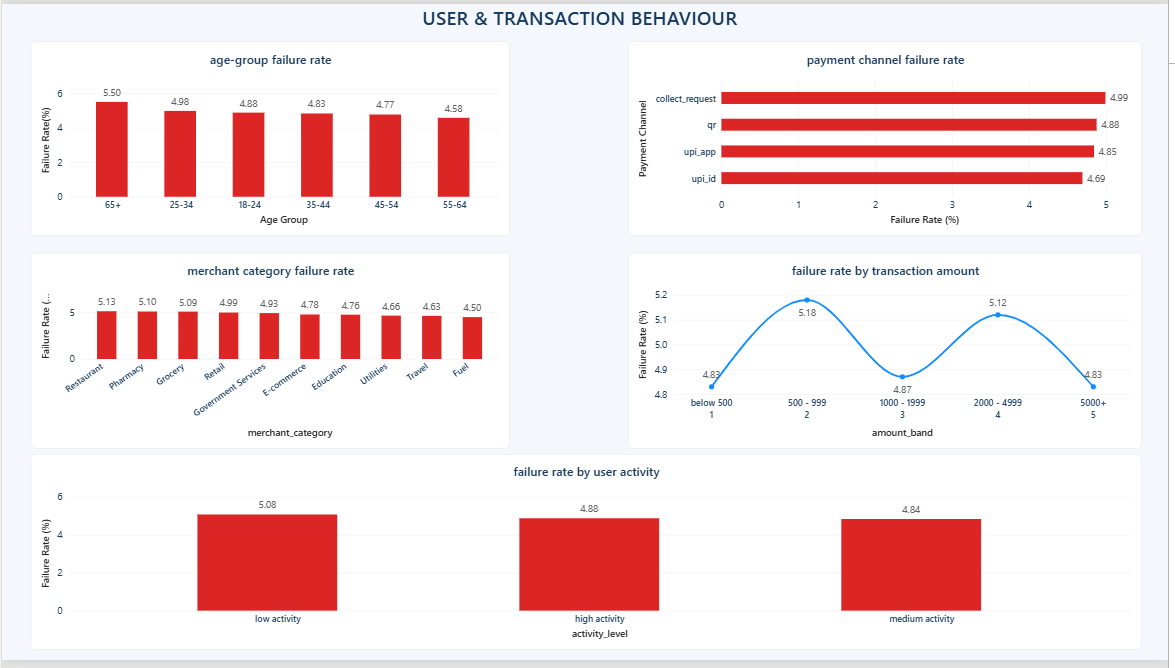

Layout of this report page (visuals, bound fields, positions):
{"tool":"powerbi","page":{"name":"user & transaction behaviour","canvas":[1920,1080],"ordinal":3},"visuals":[{"type":"textbox","box":[-0.2,0,1920.4,83.2],"z":0},{"type":"clusteredColumnChart","title":"age-group failure rate","fields":{"Category":["public vw_age_group_performance.age_group"],"Y":["Avg(public vw_age_group_performance.failure_rate)"]},"box":[48,61.7,788.8,320.1],"z":1000},{"type":"clusteredBarChart","title":"payment channel failure rate","fields":{"Category":["public vw_channel_hourly_performance.payment_channel"],"Y":["Avg(public vw_channel_hourly_performance.failure_rate)"]},"box":[1031.1,61.7,845.9,320.1],"z":2000},{"type":"clusteredColumnChart","title":"merchant category failure rate","fields":{"Category":["public vw_merchant_category_performance.merchant_category"],"Y":["Avg(public vw_merchant_category_performance.failure_rate)"]},"box":[48,409.2,788.8,322.4],"z":3000},{"type":"lineChart","title":"failure rate by transaction amount","fields":{"Category":["public vw_transaction_amount_performance.amount_band_order","public vw_transaction_amount_performance.amount_band"],"Y":["Avg(public vw_transaction_amount_performance.failure_rate)"]},"box":[1031.1,409.2,845.9,322.4],"z":4000},{"type":"clusteredColumnChart","title":"failure rate by user activity","fields":{"Category":["public vw_user_activity_performance.activity_level"],"Y":["Avg(public vw_user_activity_performance.failure_rate)"]},"box":[48,740.8,1829,322.4],"z":5000}]}

Visuals, with their boxes in screenshot pixels (x1, y1, x2, y2), scaled from the page's 1920x1080 canvas onto the 1175x668 screenshot:
textbox: [0, 0, 1174, 51]
"age-group failure rate" clusteredColumnChart: [29, 38, 512, 236]
"payment channel failure rate" clusteredBarChart: [631, 38, 1149, 236]
"merchant category failure rate" clusteredColumnChart: [29, 253, 512, 453]
"failure rate by transaction amount" lineChart: [631, 253, 1149, 453]
"failure rate by user activity" clusteredColumnChart: [29, 458, 1149, 658]
